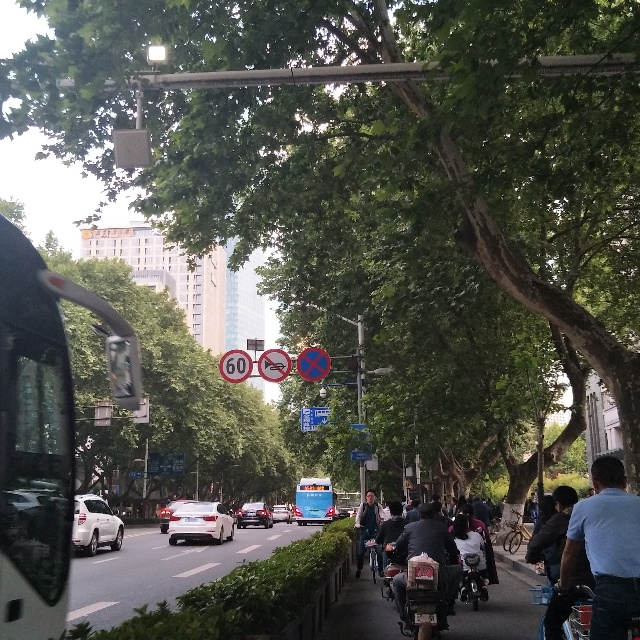nohonk: (255, 347, 296, 385)
stop: (295, 343, 334, 388)
